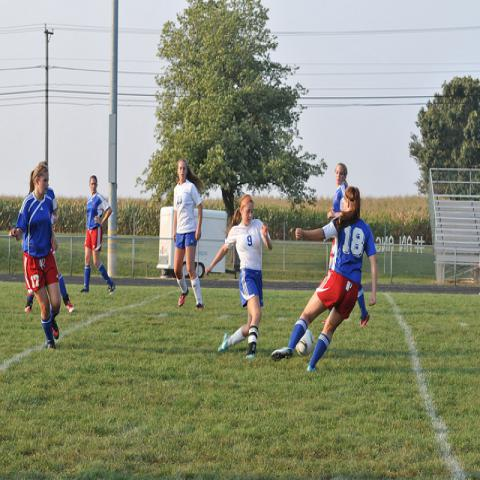truck: (156, 206, 227, 280)
